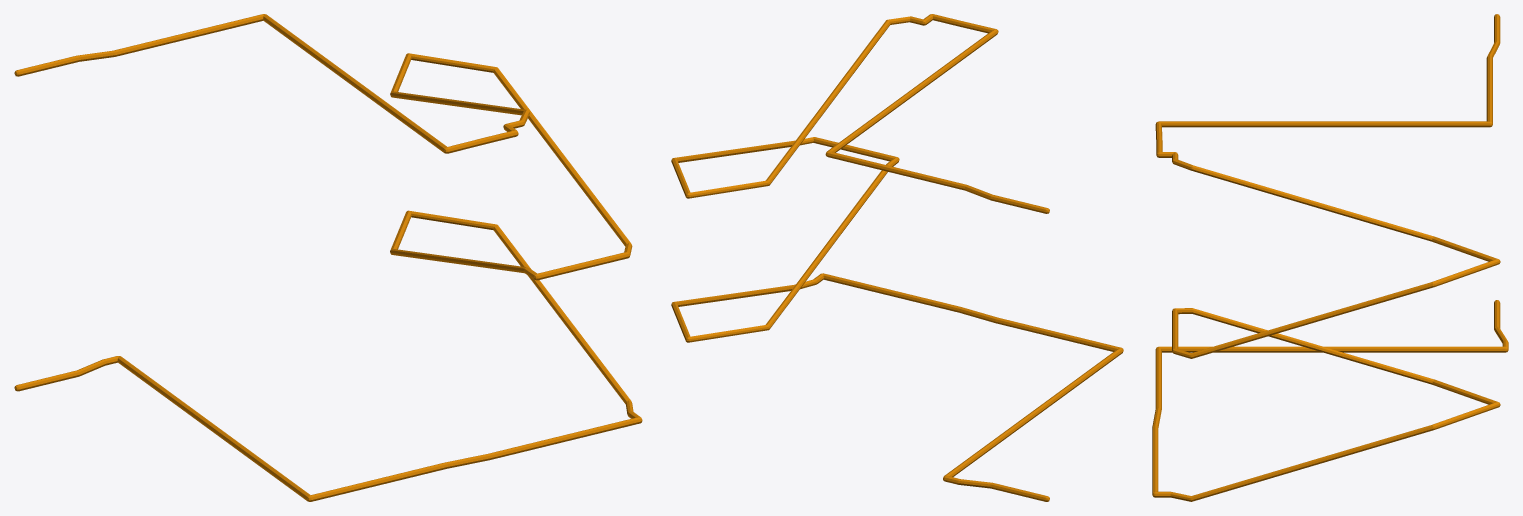
The picture shows the model from 3 angles, left to right: view 1: azimuth 30°, elevation 25°; view 2: azimuth 150°, elevation 25°; view 3: azimuth 270°, elevation 25°; orthographic projection. The views are drawn at different scales.
Size of the model in its own units: 1492 by 1020 by 1131.
